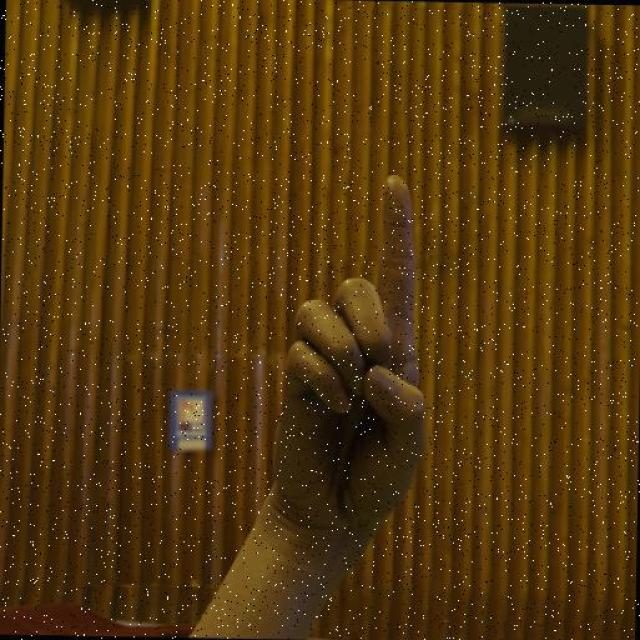D: (253, 164, 442, 594)
